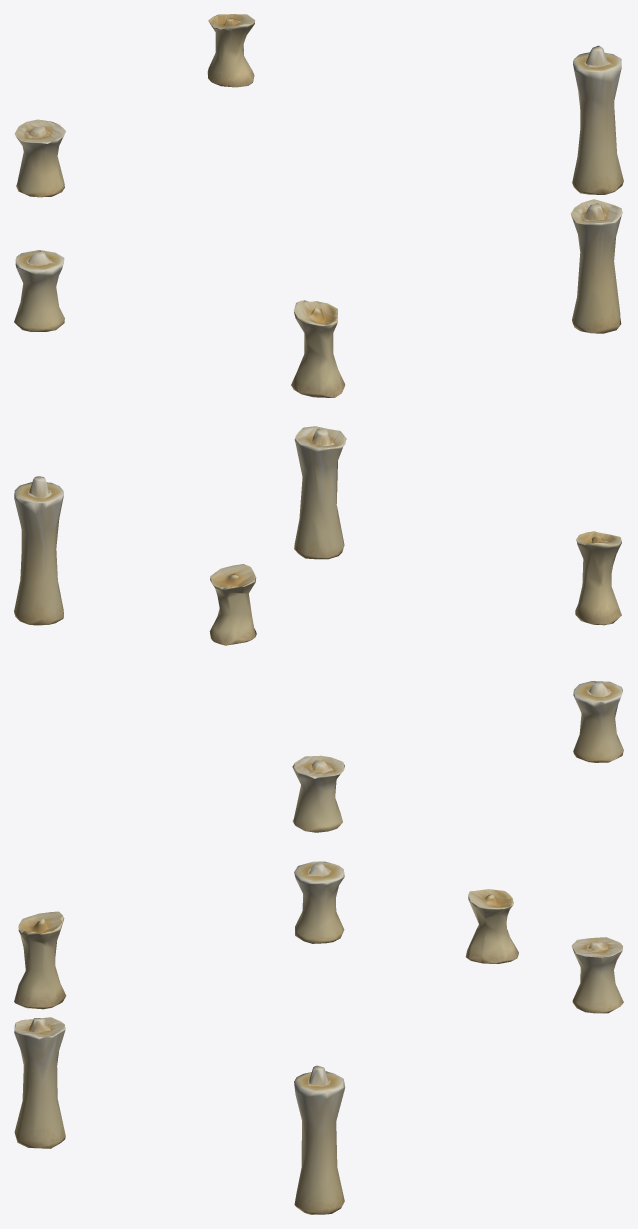
The model's file is SM_Candles.fbx.
The picture shows the model from 3 angles, top to bottom: view 1: azimuth 30°, elevation 25°; view 2: azimuth 150°, elevation 25°; view 3: azimuth 270°, elevation 25°; orthographic projection.
Parts seen in each view (by area): view 1: SM_Candles_LOD0; view 2: SM_Candles_LOD0; view 3: SM_Candles_LOD0.
Boxes of the visible parts, x1,y1,x2,y2 form: SM_Candles_LOD0: (14,14,623,397); SM_Candles_LOD0: (14,426,623,832); SM_Candles_LOD0: (14,861,623,1214).
Bounding box in the file's own units: 81.26 × 71.3 × 22.81.
